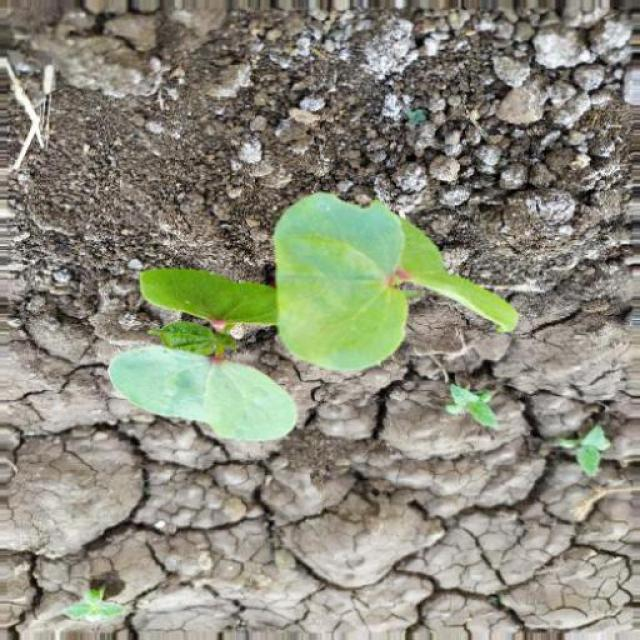weed: (96, 188, 534, 458)
